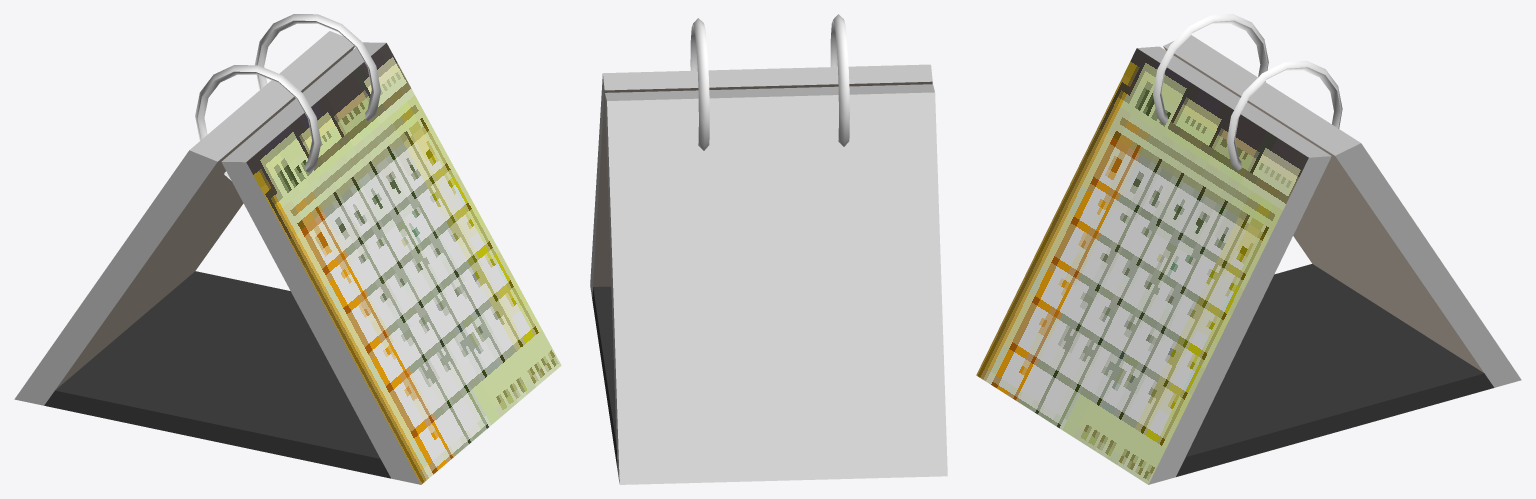
The picture shows the model from 3 angles, left to right: view 1: azimuth 30°, elevation 25°; view 2: azimuth 150°, elevation 25°; view 3: azimuth 270°, elevation 25°; orthographic projection. The views are drawn at different scales.
Parts seen in each view (by area): view 1: Joint_0_Object_1, Joint_0_Object_2, Joint_0_Object_0, Joint_0_Object_3; view 2: Joint_0_Object_2, Joint_0_Object_0, Joint_0_Object_3; view 3: Joint_0_Object_1, Joint_0_Object_2, Joint_0_Object_0, Joint_0_Object_3.
Part boxes in pixels (x1=…): Joint_0_Object_1: x1=246, y1=43, x2=561, y2=484; Joint_0_Object_2: x1=44, y1=46, x2=390, y2=478; Joint_0_Object_0: x1=14, y1=31, x2=420, y2=484; Joint_0_Object_3: x1=195, y1=14, x2=380, y2=180; Joint_0_Object_2: x1=592, y1=81, x2=947, y2=484; Joint_0_Object_0: x1=590, y1=64, x2=934, y2=483; Joint_0_Object_3: x1=690, y1=14, x2=849, y2=150; Joint_0_Object_1: x1=976, y1=48, x2=1308, y2=484; Joint_0_Object_2: x1=1163, y1=46, x2=1494, y2=476; Joint_0_Object_0: x1=1137, y1=35, x2=1521, y2=484; Joint_0_Object_3: x1=1153, y1=14, x2=1342, y2=171.
Bounding box in the file's own units: 427 × 314 × 459.
